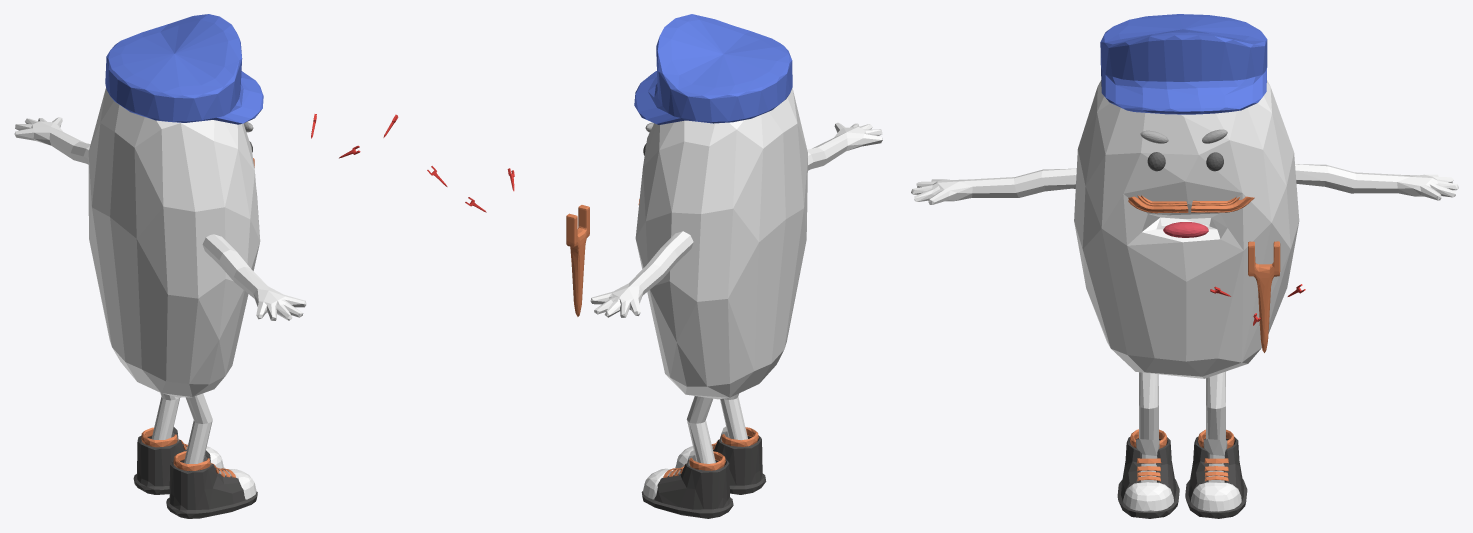
File: Krvinka4.fbx
3 renders of one model, left to right at view 1: azimuth 30°, elevation 25°; view 2: azimuth 150°, elevation 25°; view 3: azimuth 270°, elevation 25°, orthographic. The views are drawn at different scales.
Visible parts, largest first — view 1: telo, ciapka, topanka_l, ruka_l, topanka_p, ruka_p, noha_l, noha_p; view 2: telo, ciapka, topanka_p, ruka_p, topanka_l, ruka_l, prak, noha_p, noha_l; view 3: telo, ciapka, ruka_l, ruka_p, topanka_p, topanka_l, prak, noha_l, noha_p, spicka_topanka_p, spicka_toanka_l, fuzy_l (+1 smaller).
Part boxes in pixels (x1,y1,x2,y2): telo: (88, 88, 260, 397); ciapka: (105, 14, 263, 124); topanka_l: (166, 460, 257, 518); ruka_l: (202, 234, 306, 320); topanka_p: (133, 435, 224, 494); ruka_p: (14, 117, 90, 164); noha_l: (184, 393, 212, 463); noha_p: (151, 393, 179, 439); telo: (635, 88, 807, 399); ciapka: (634, 14, 792, 124); topanka_p: (641, 458, 733, 518); ruka_p: (590, 231, 693, 317); topanka_l: (675, 435, 766, 494); ruka_l: (807, 122, 882, 170); prak: (566, 205, 589, 316); noha_p: (686, 396, 715, 463); noha_l: (720, 393, 747, 440); telo: (1074, 80, 1299, 378); ciapka: (1100, 14, 1267, 114); ruka_l: (911, 168, 1076, 204); ruka_p: (1295, 164, 1458, 200); topanka_p: (1185, 437, 1247, 518); topanka_l: (1117, 437, 1179, 518); prak: (1248, 241, 1280, 352); noha_l: (1139, 372, 1158, 440); noha_p: (1206, 371, 1225, 440); spicka_topanka_p: (1191, 482, 1241, 511); spicka_toanka_l: (1123, 482, 1173, 511); fuzy_l: (1128, 195, 1188, 213).
Size of the model in its own units: 147 by 104 by 143.
